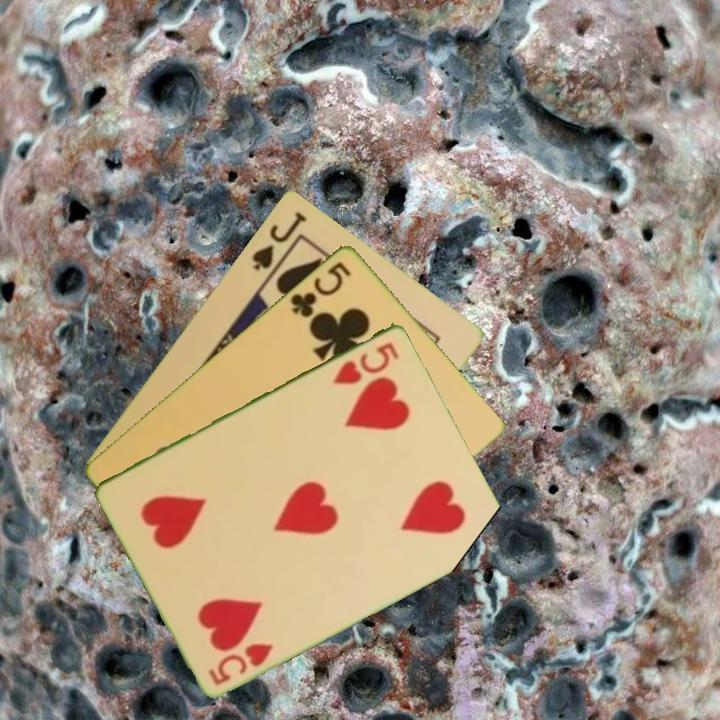5c: (286, 257, 354, 321)
5h: (205, 638, 276, 688), (330, 338, 402, 387)
Js: (248, 207, 309, 273)
